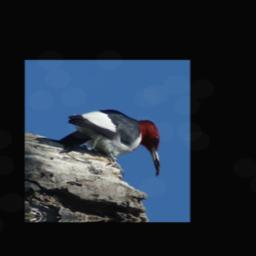Woodpecker: (34, 106, 162, 176)
